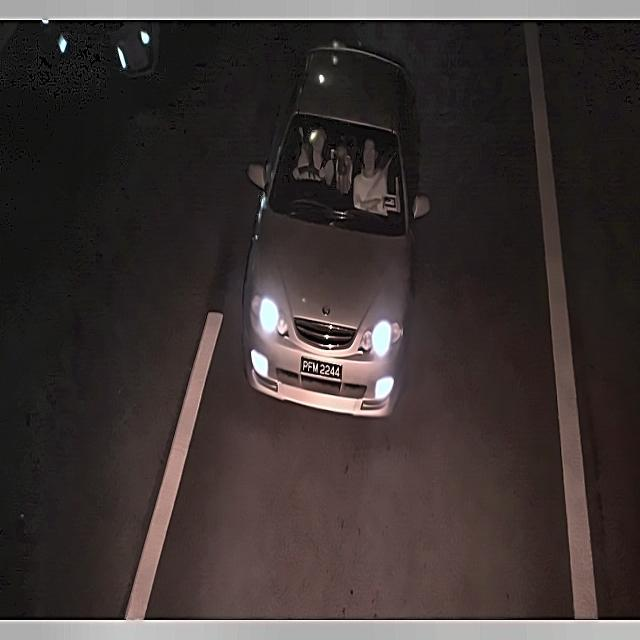car: (297, 350, 344, 388)
